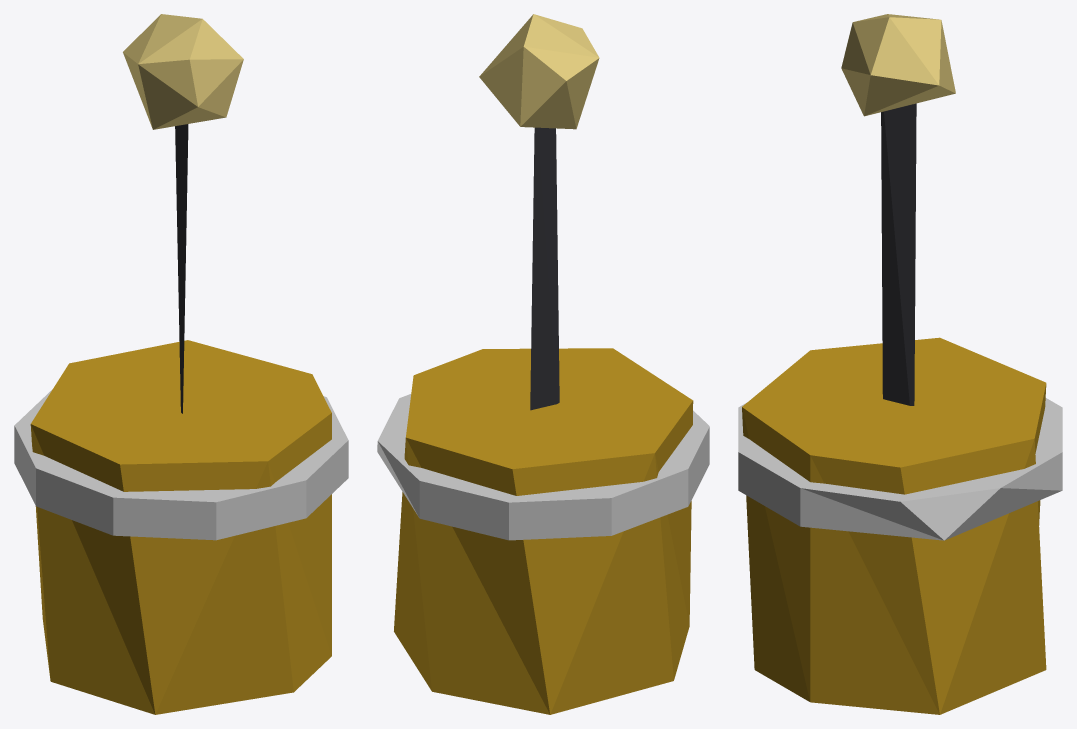
File: buoy_route_lod1.glb
3 renders of one model, left to right at view 1: azimuth 30°, elevation 25°; view 2: azimuth 150°, elevation 25°; view 3: azimuth 270°, elevation 25°, orthographic. The views are drawn at different scales.
Visible parts, largest first — view 1: geometry_0; view 2: geometry_0; view 3: geometry_0.
Boxes of the visible parts, x1=… form: geometry_0: x1=14, y1=14, x2=348, y2=714; geometry_0: x1=377, y1=14, x2=709, y2=714; geometry_0: x1=738, y1=14, x2=1062, y2=714.
Size of the model in its own units: 2 by 4.15 by 1.9.
